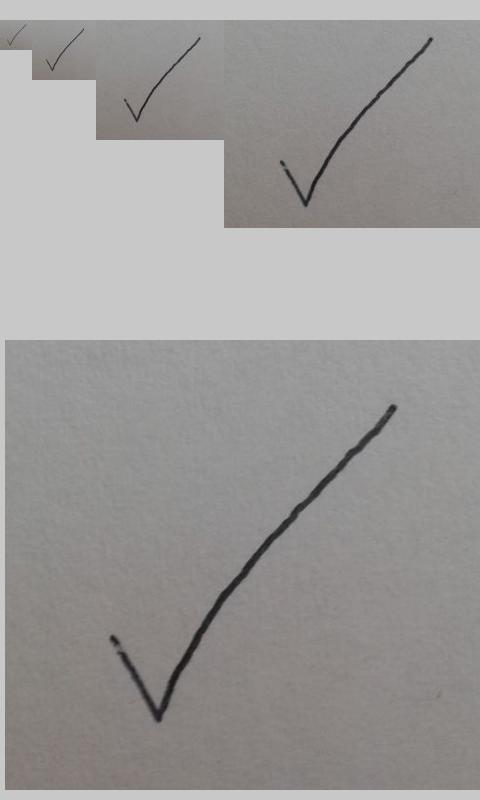check_box: (108, 405, 395, 724), (280, 37, 433, 207), (123, 37, 201, 123), (45, 29, 84, 71), (6, 24, 26, 47)
